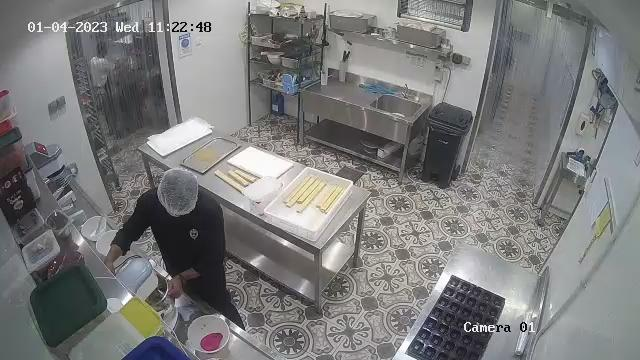no_apron: (152, 204, 212, 290)
